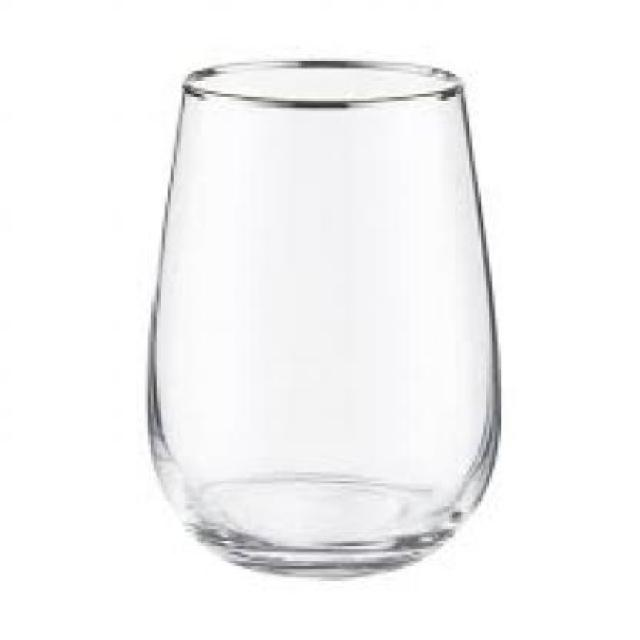kaca: (144, 57, 498, 574)
